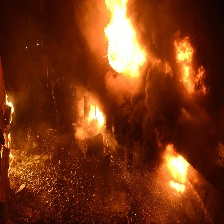fire: (104, 3, 145, 77), (174, 34, 204, 90), (165, 149, 188, 191), (86, 102, 108, 130), (5, 93, 16, 124)
smoke: (119, 79, 173, 145)
